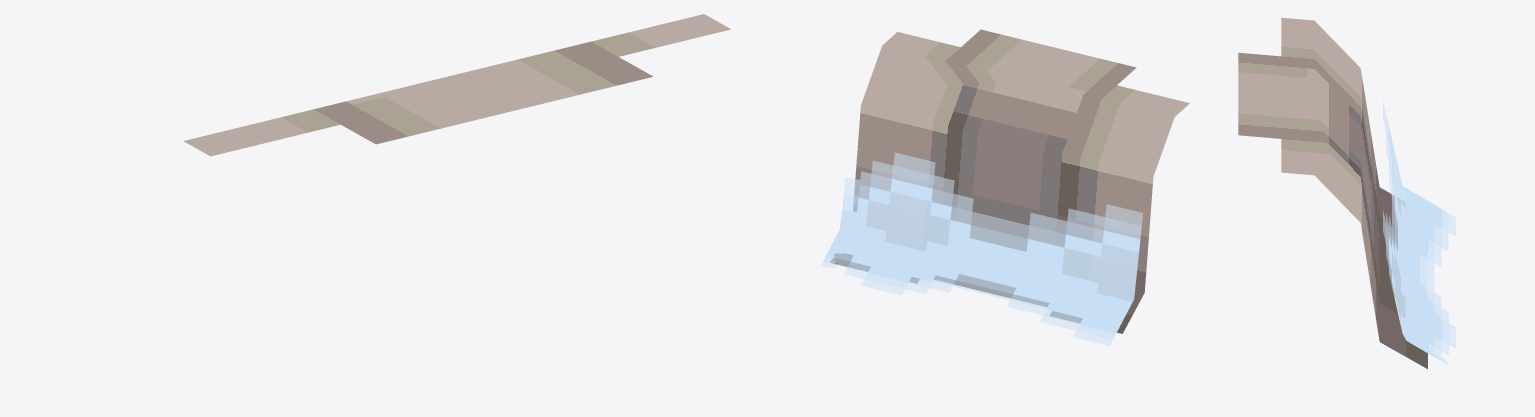
The picture shows the model from 3 angles, left to right: view 1: azimuth 30°, elevation 25°; view 2: azimuth 150°, elevation 25°; view 3: azimuth 270°, elevation 25°; orthographic projection. The views are drawn at different scales.
Bounding box in the file's own units: 1 × 0.7266 × 0.7705.
Materials: 2 (2 with a texture image).
